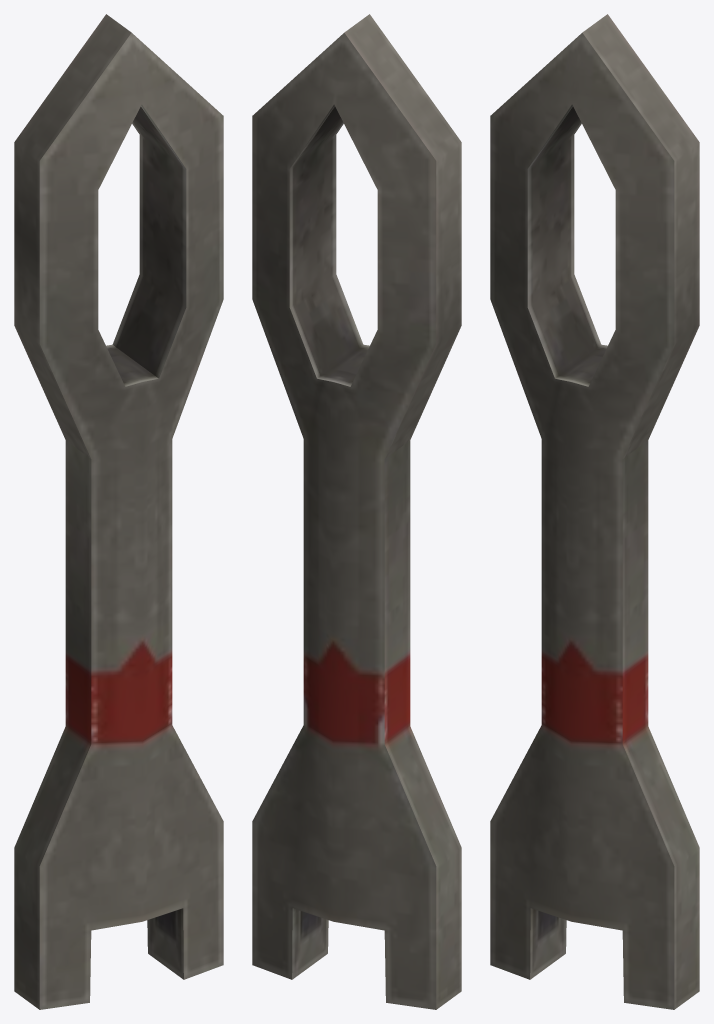
Rendered from Part - Column 04-CxrHMcJV.glb.
3 renders of one model, left to right at view 1: azimuth 30°, elevation 25°; view 2: azimuth 150°, elevation 25°; view 3: azimuth 330°, elevation 25°, orthographic.
Parts seen in each view (by area): view 1: Column_04; view 2: Column_04; view 3: Column_04.
Boxes of the visible parts, bbox=[...] form: Column_04: bbox=[14, 14, 223, 1009]; Column_04: bbox=[252, 14, 461, 1009]; Column_04: bbox=[490, 14, 699, 1009].
Size of the model in its own units: 0.2245 by 1.11 by 0.1006.
1 material, 1 textured.
